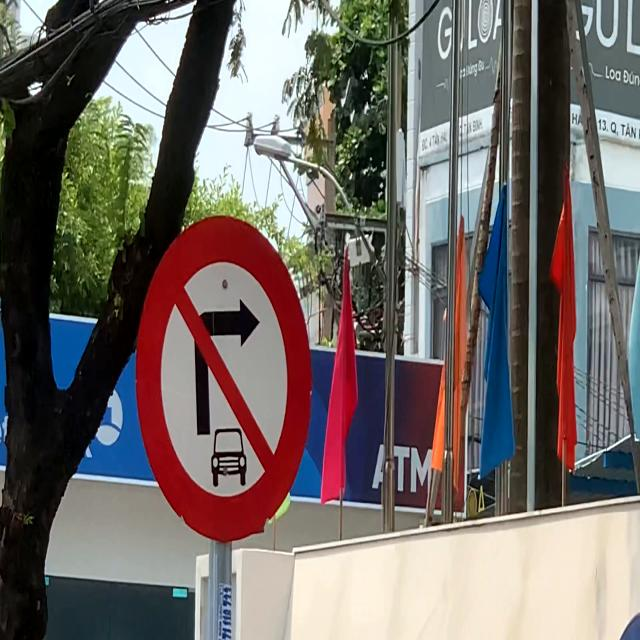P.103b: (134, 217, 308, 542)
